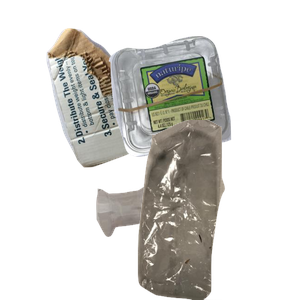cardboard: (44, 26, 209, 186)
glass: (94, 184, 253, 300)
plastic: (106, 34, 300, 183)
trash: (114, 120, 300, 300)
